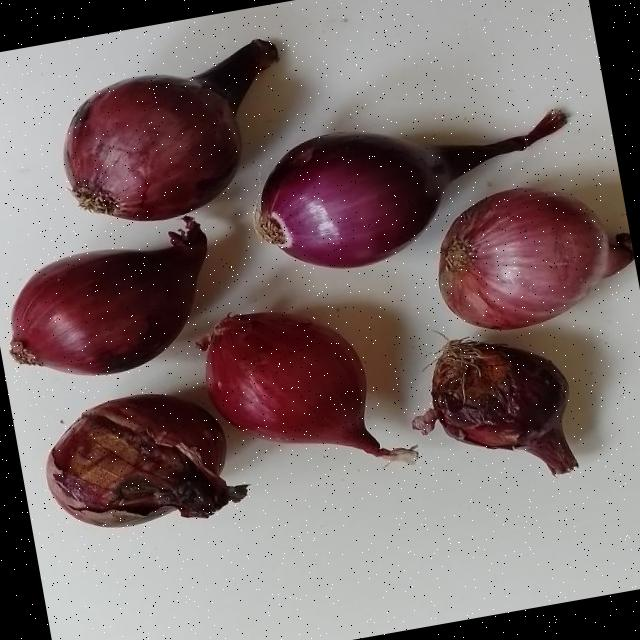Onion: (255, 108, 569, 267), (63, 39, 278, 219), (9, 217, 207, 375), (439, 187, 634, 329), (198, 313, 391, 456), (45, 394, 247, 528), (432, 339, 579, 475)
